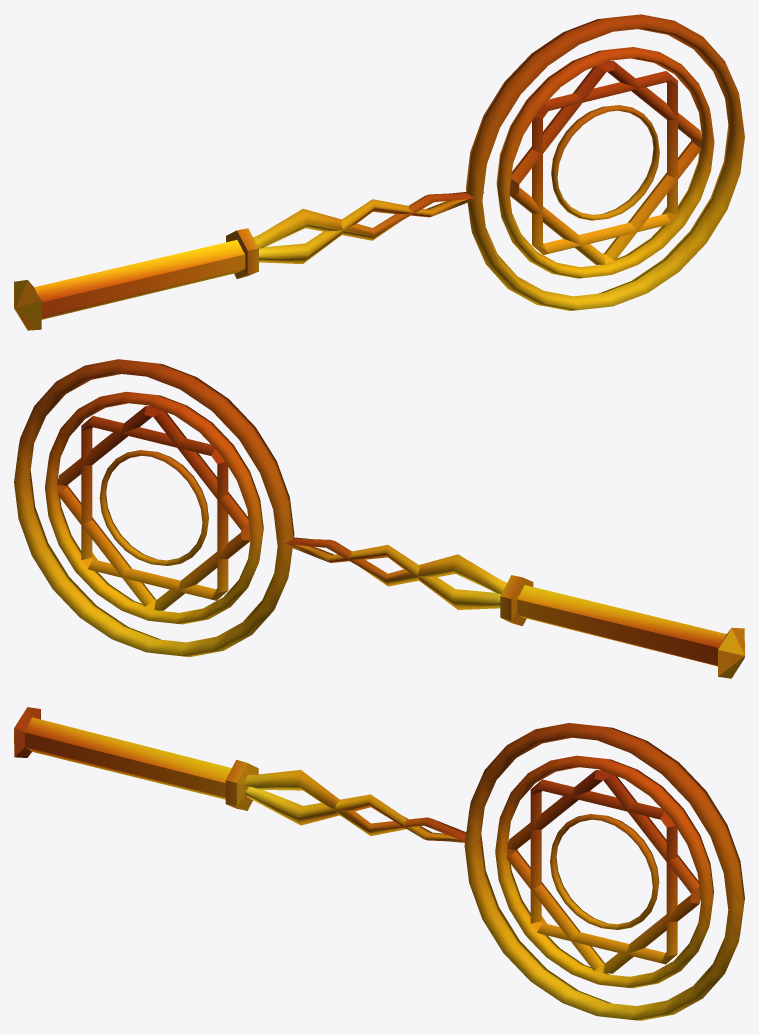
The model's file is weapon_43.FBX.
3 views of the same model, one above another, from view 1: azimuth 30°, elevation 25°; view 2: azimuth 150°, elevation 25°; view 3: azimuth 330°, elevation 25° (orthographic).
Parts seen in each view (by area): view 1: weapon_43; view 2: weapon_43; view 3: weapon_43.
Part boxes in pixels (bbox=[...]): weapon_43: bbox=[14, 14, 744, 330]; weapon_43: bbox=[14, 359, 744, 678]; weapon_43: bbox=[14, 707, 744, 1020].
Size of the model in its own units: 81.9 by 31.12 by 5.29.
Materials: 1 (1 with a texture image).
